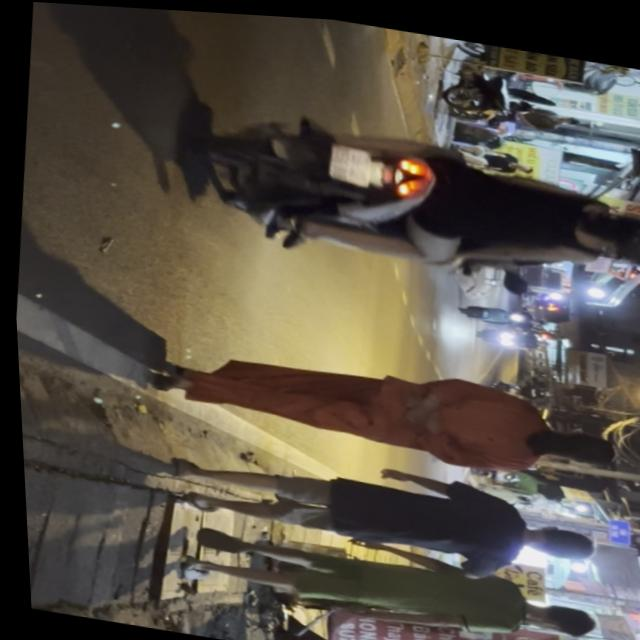helmet: (577, 197, 640, 262)
licenseplate: (168, 90, 640, 300)
nohelmet: (327, 138, 375, 182)
